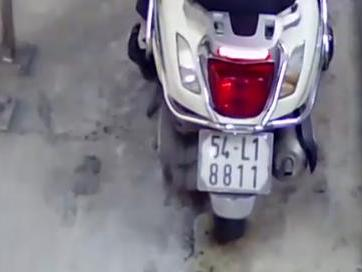num_plate: (195, 126, 275, 195)
